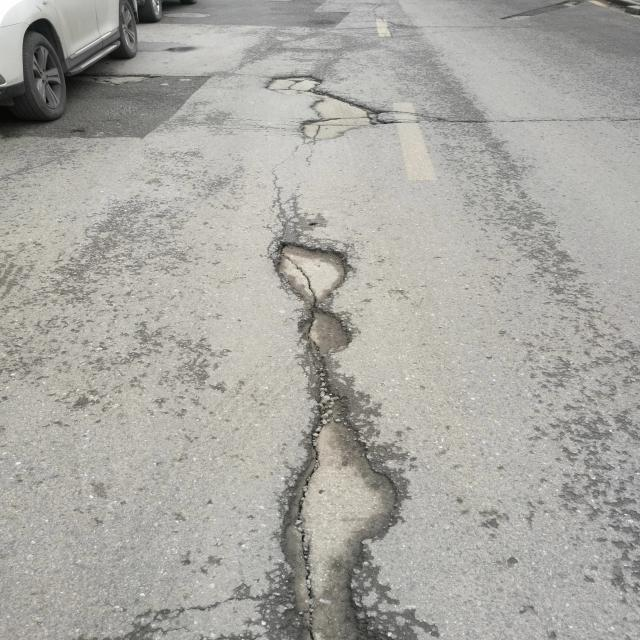Pothole: (268, 242, 401, 639), (261, 76, 386, 142), (80, 71, 156, 85)
